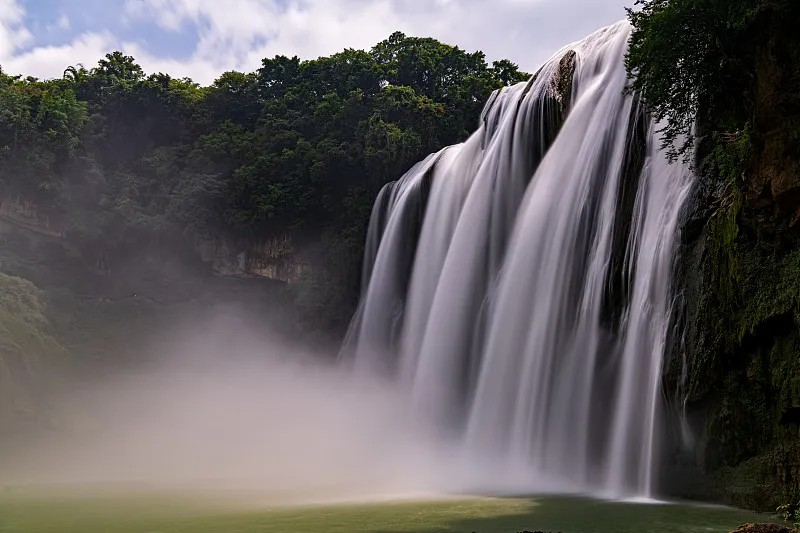Huangguoshu: (335, 16, 695, 498)
